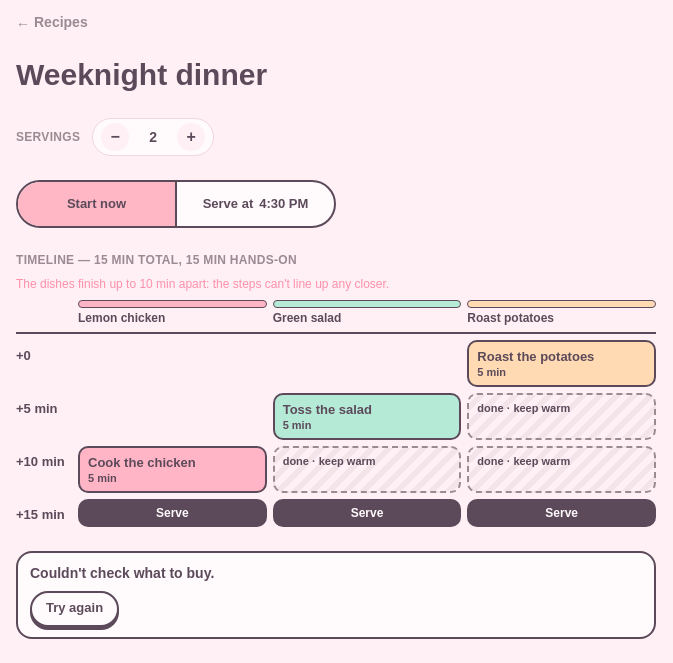
Test: setting Serve at writes the planned-tonight record › a serve time that is too soon keeps nothing
Click the radio button labelled "Serve at 4:30 PM". click: (254, 204)
box: x1=175 y1=182 x2=334 y2=226
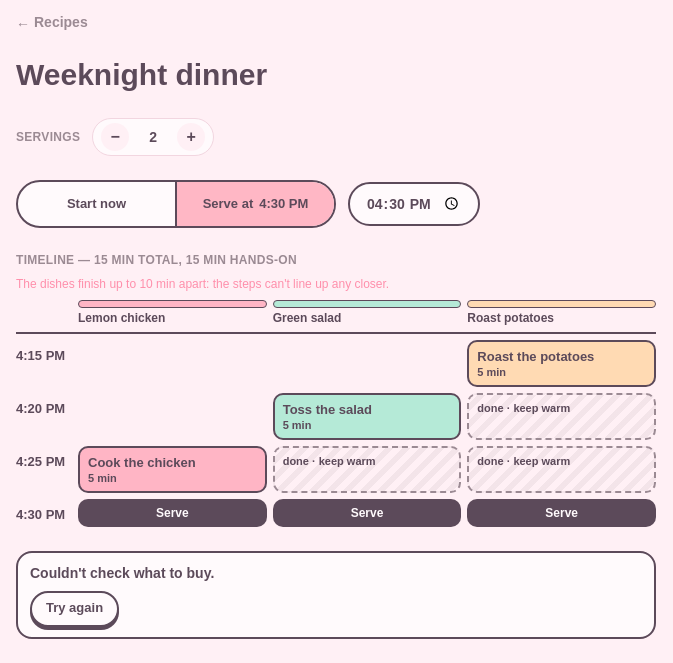
Replace the text in the time field named "Serve at time" with "19:00". click: (414, 204)
box: x1=348 y1=182 x2=480 y2=226
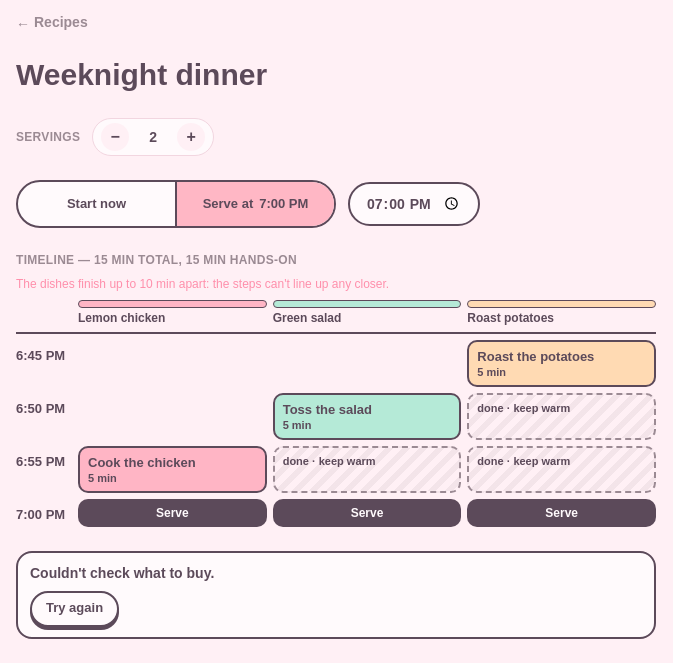
Replace the text in the time field named "Serve at time" with "15:05". click: (414, 204)
box: x1=348 y1=182 x2=480 y2=226
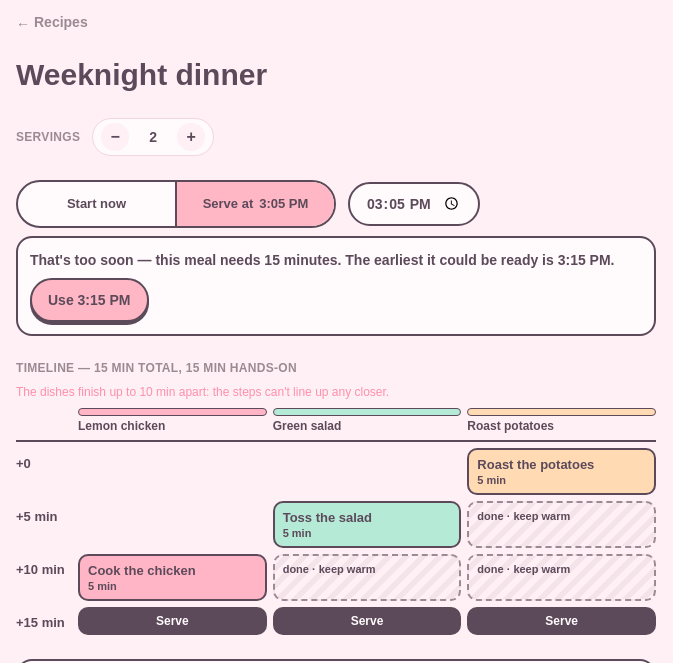
Expected: the message with test id "serve-at-too-late" is shown, x1=16 y1=236 x2=656 y2=336
